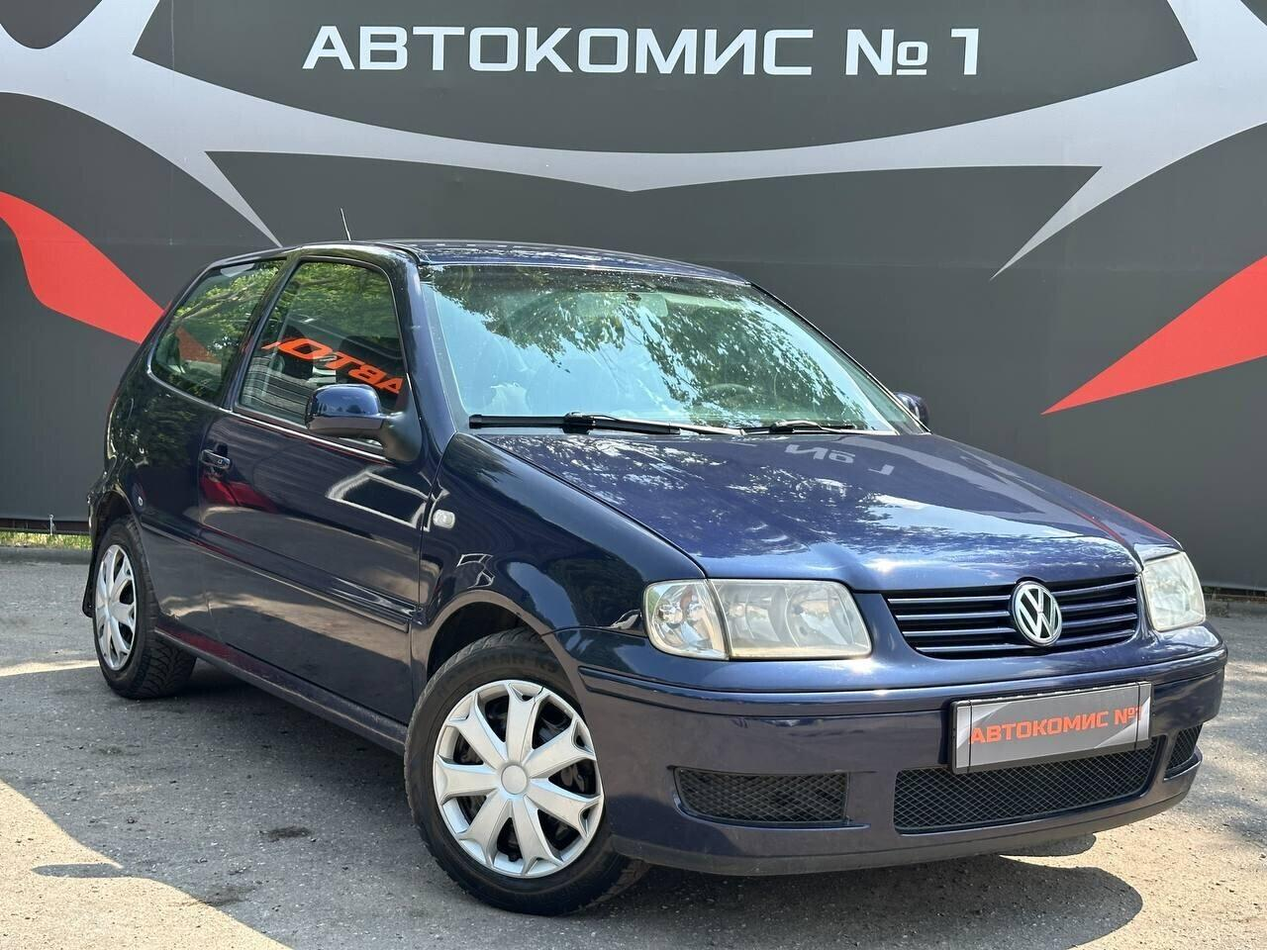Polo_2000-2002: (73, 233, 1226, 916)
